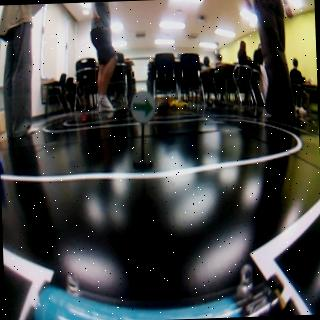right: (130, 92, 156, 124)
